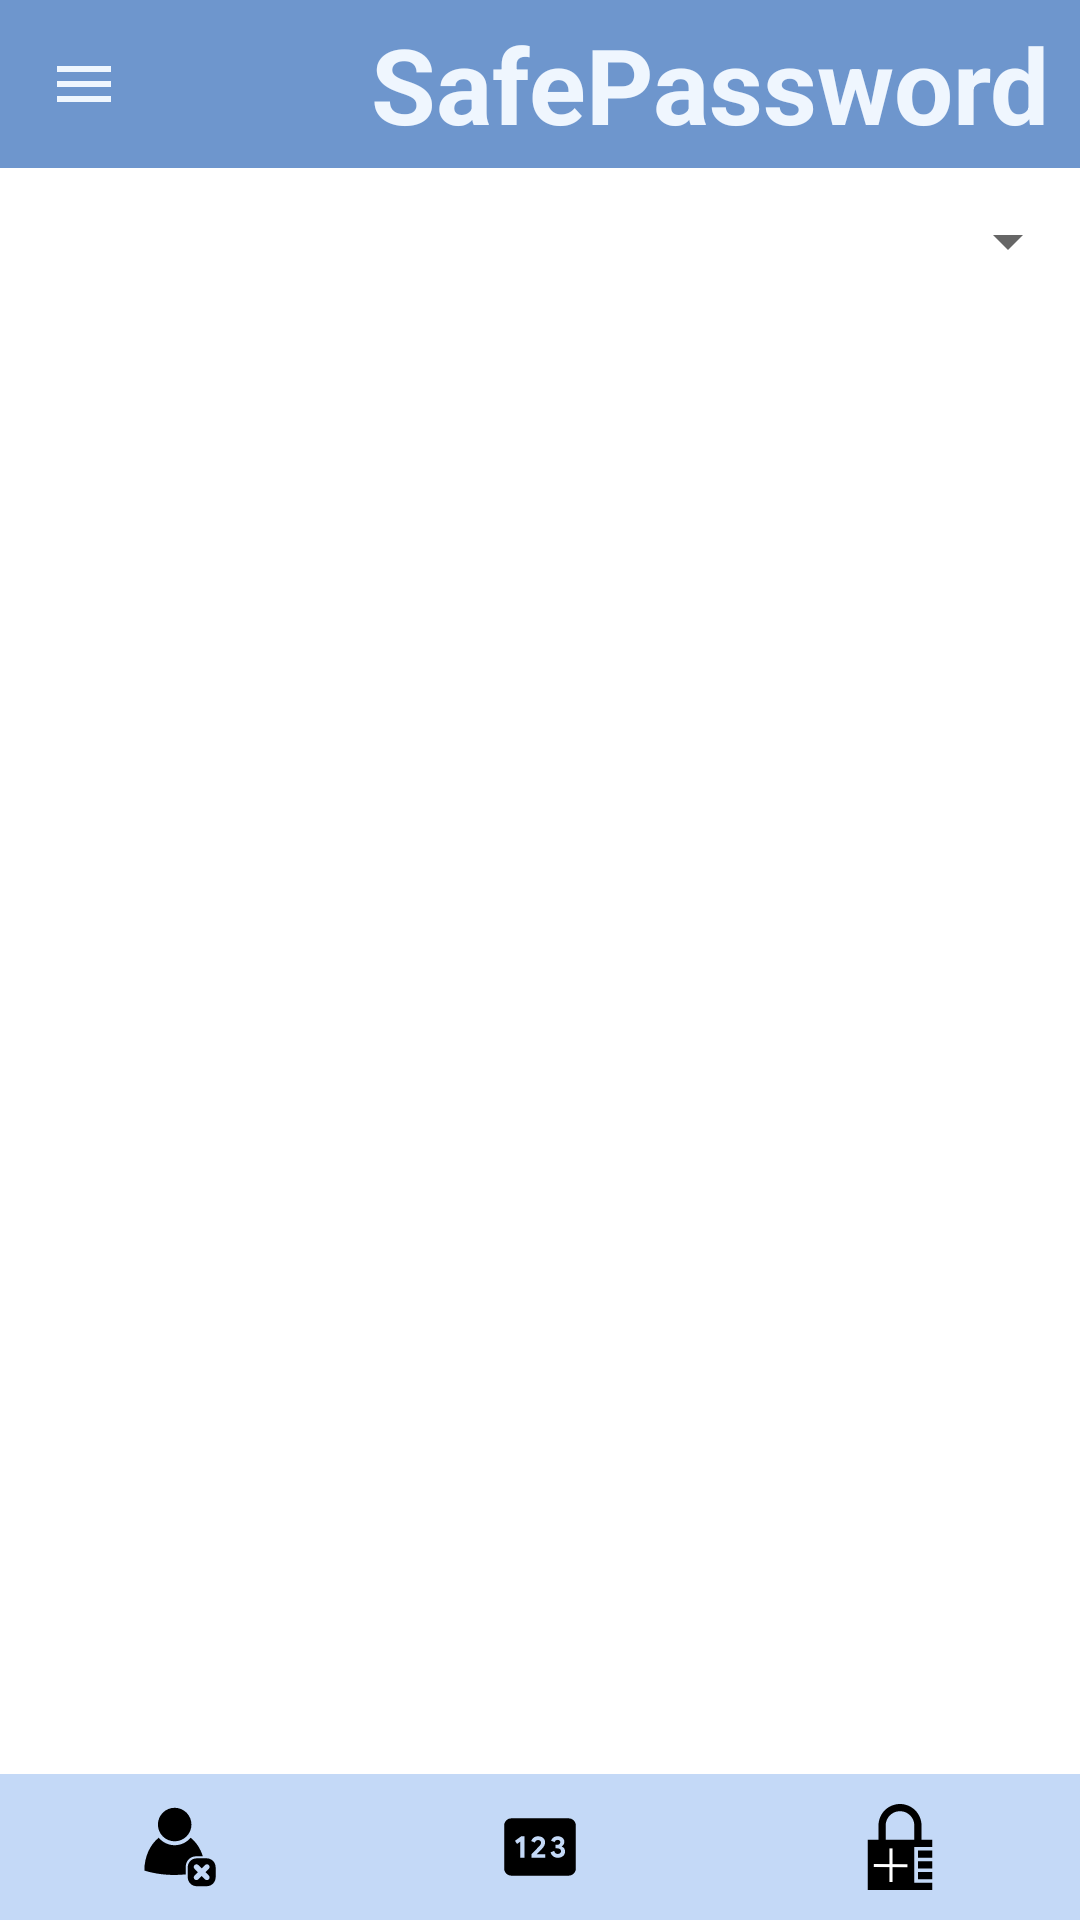

Screen size 1080 × 1920. Icon name, then its center in pixels as (x,y):
Add Password: (900,1847)
Modify Pin: (540,1847)
remove user: (180,1847)
